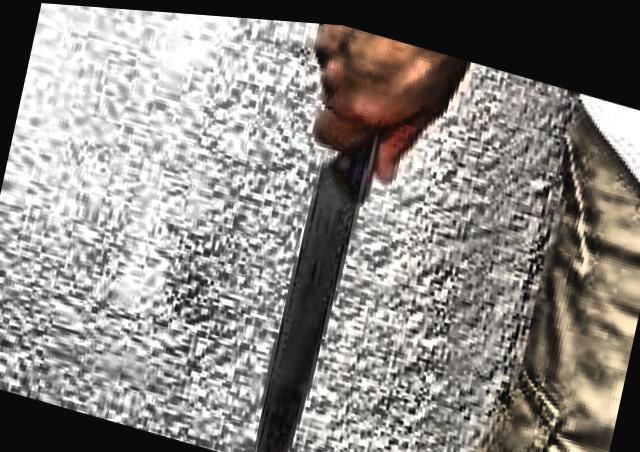knife: (227, 38, 427, 452)
